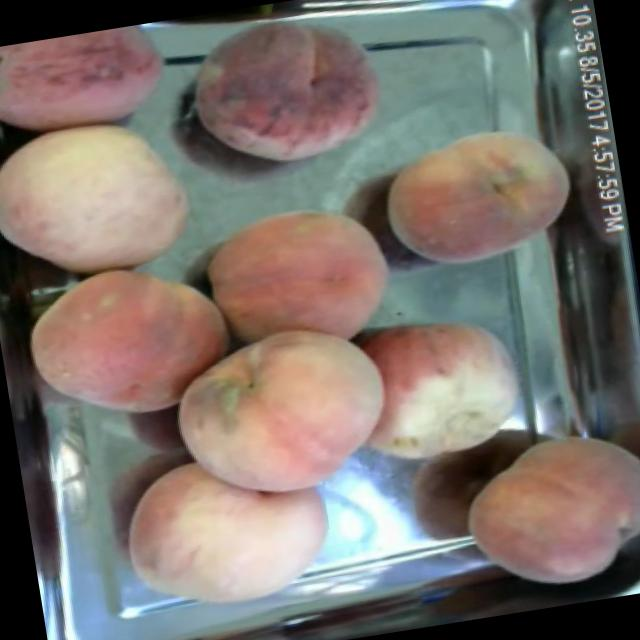Fruit: (153, 308, 410, 520), (104, 432, 348, 634), (7, 251, 253, 442), (161, 0, 402, 190), (438, 401, 640, 614), (328, 298, 542, 496), (0, 108, 218, 296), (181, 186, 406, 366), (366, 112, 588, 284), (0, 18, 195, 161)
